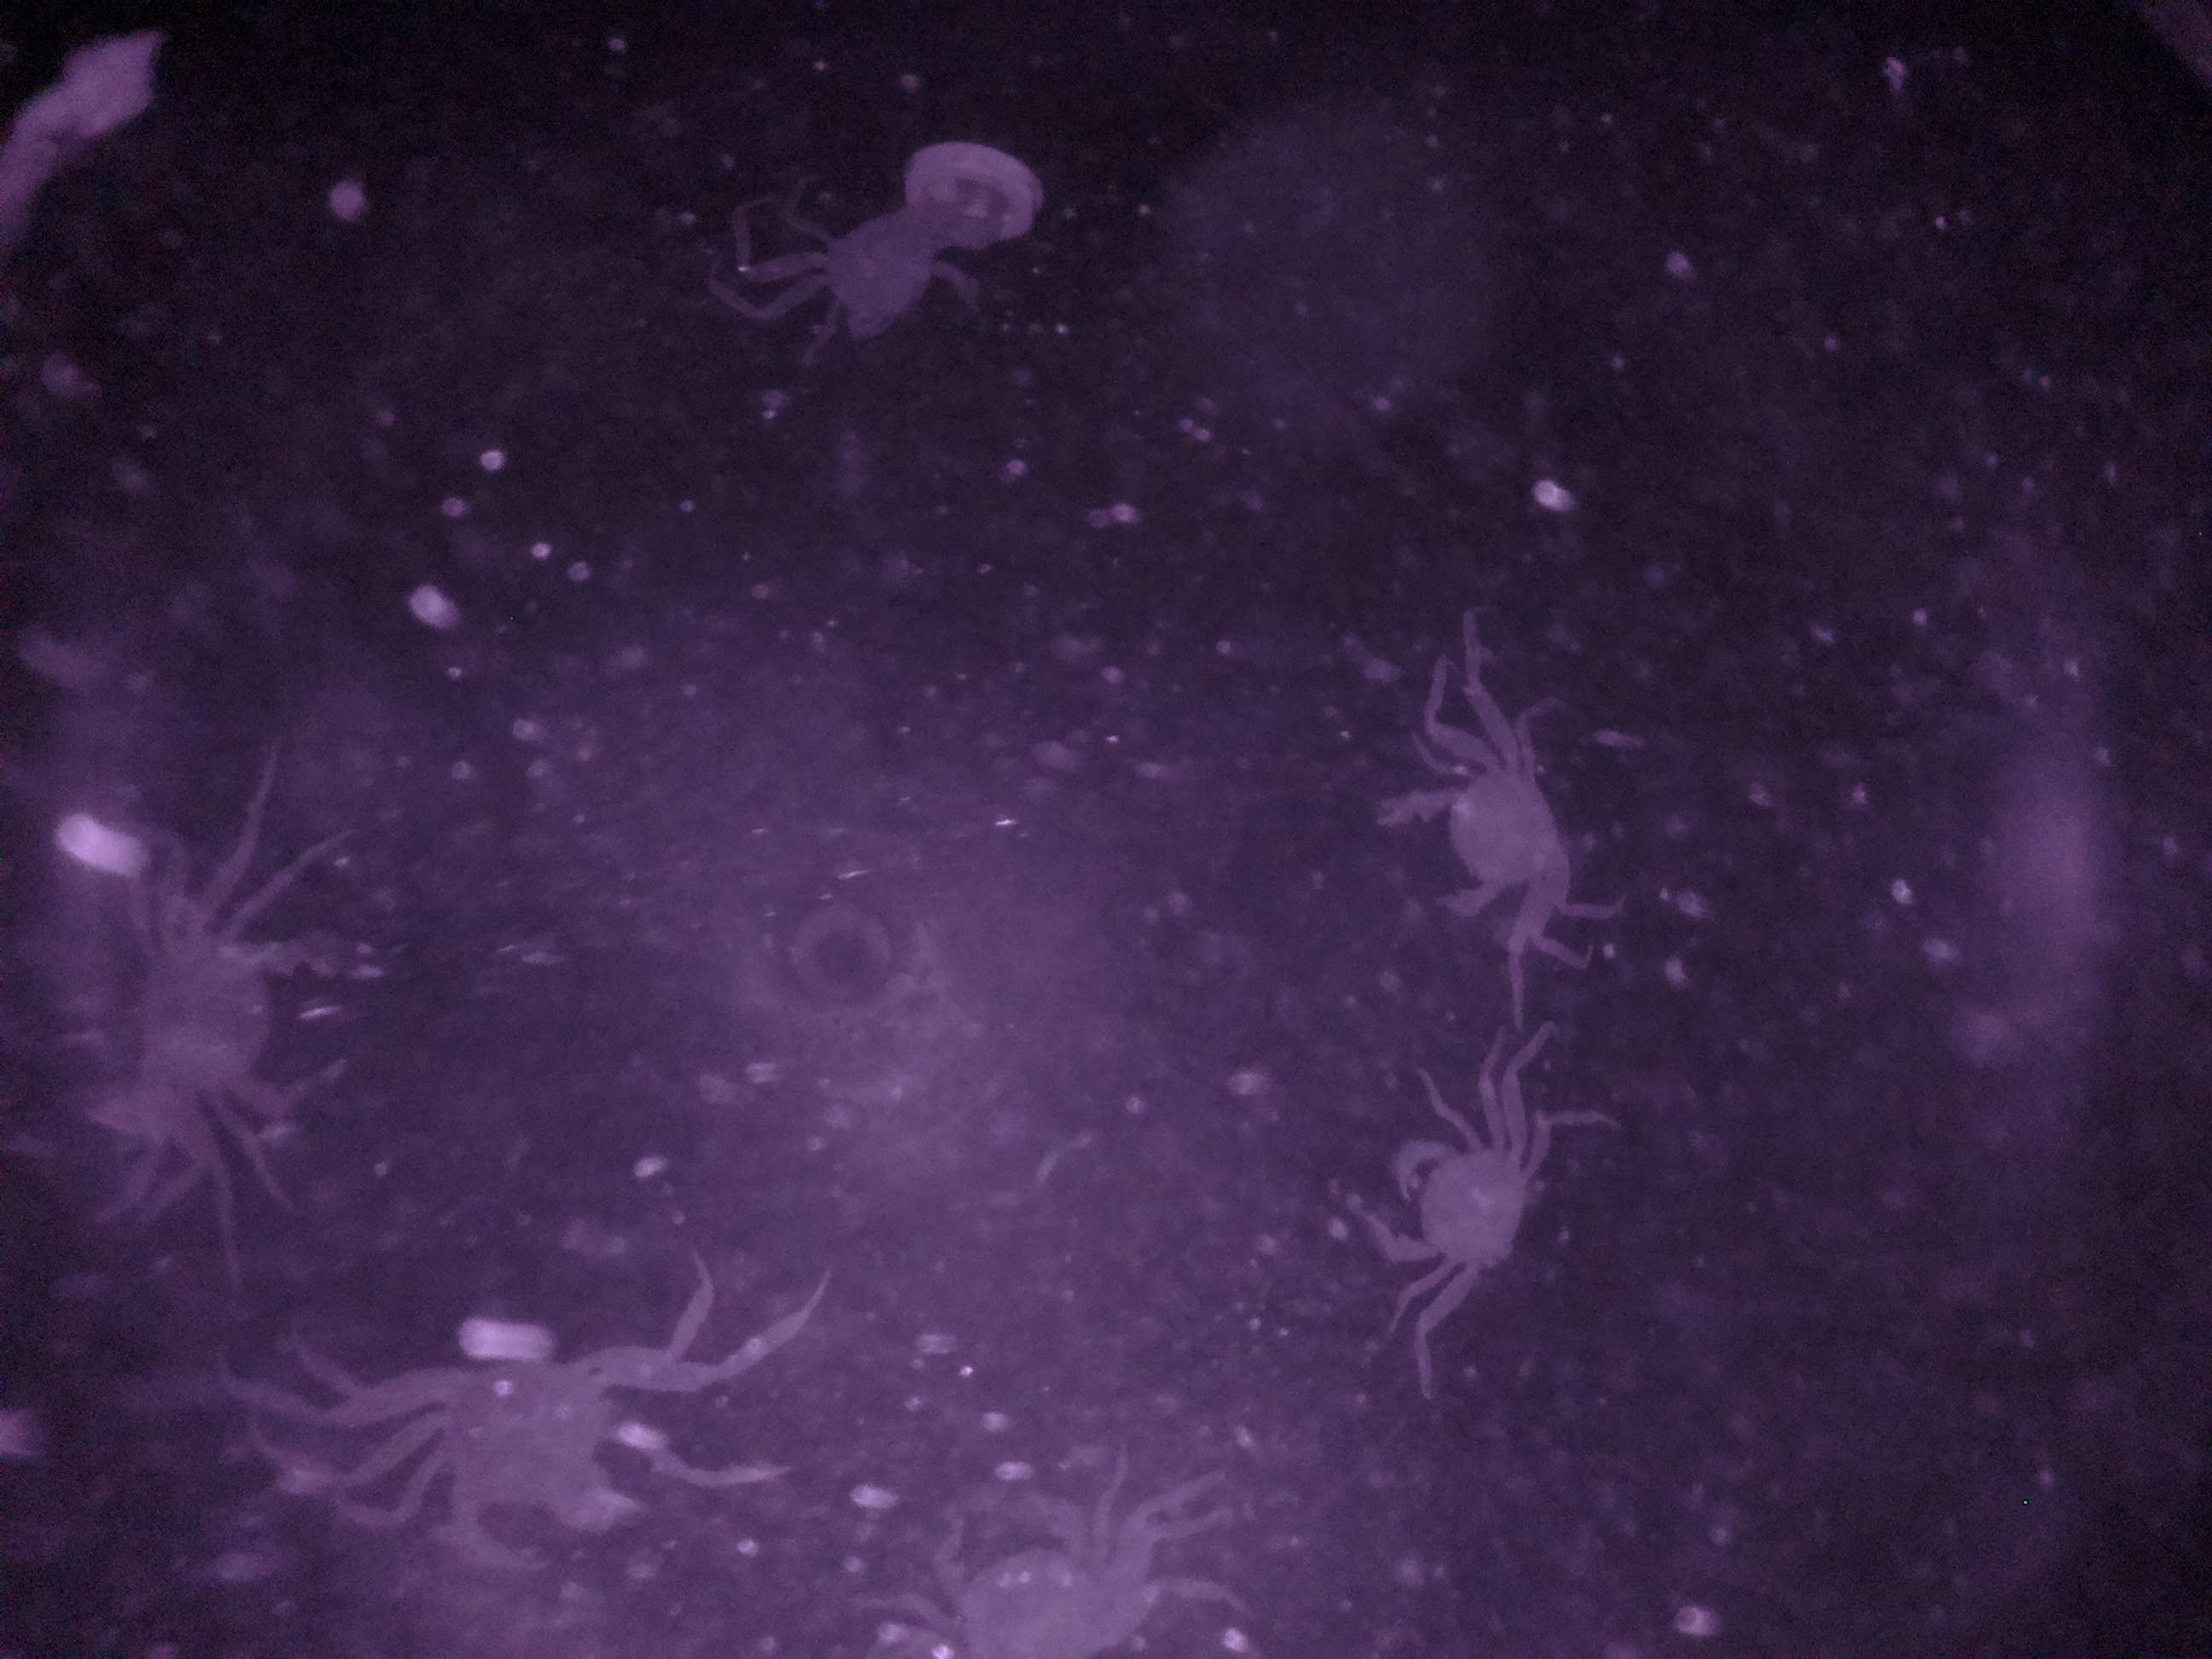Crab: (85, 884, 406, 1161), (380, 1317, 672, 1591), (1379, 727, 1629, 955), (1350, 1079, 1559, 1321)
